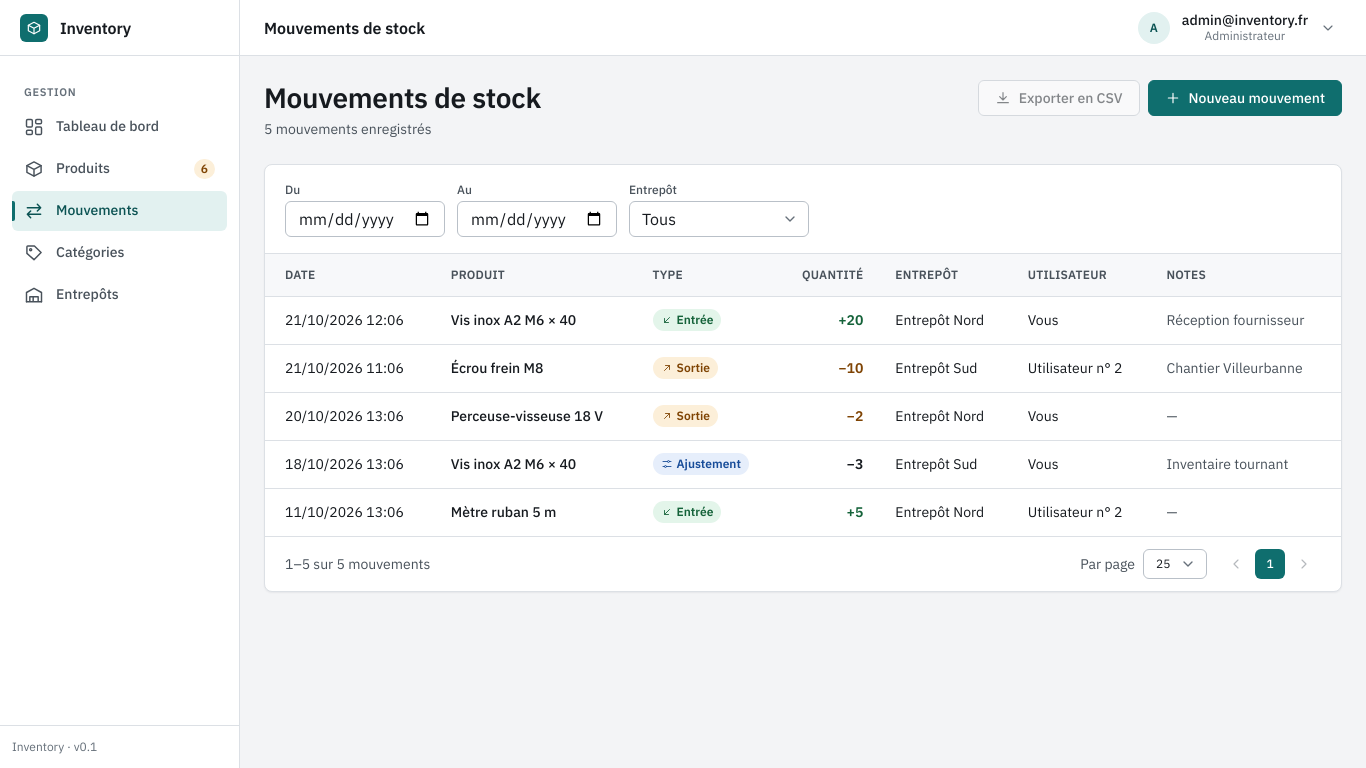
Test: MovementDrawer — opening and closing › closes with the close button
Click the button "Nouveau mouvement" at (1245, 98), box [1148, 80, 1342, 116]
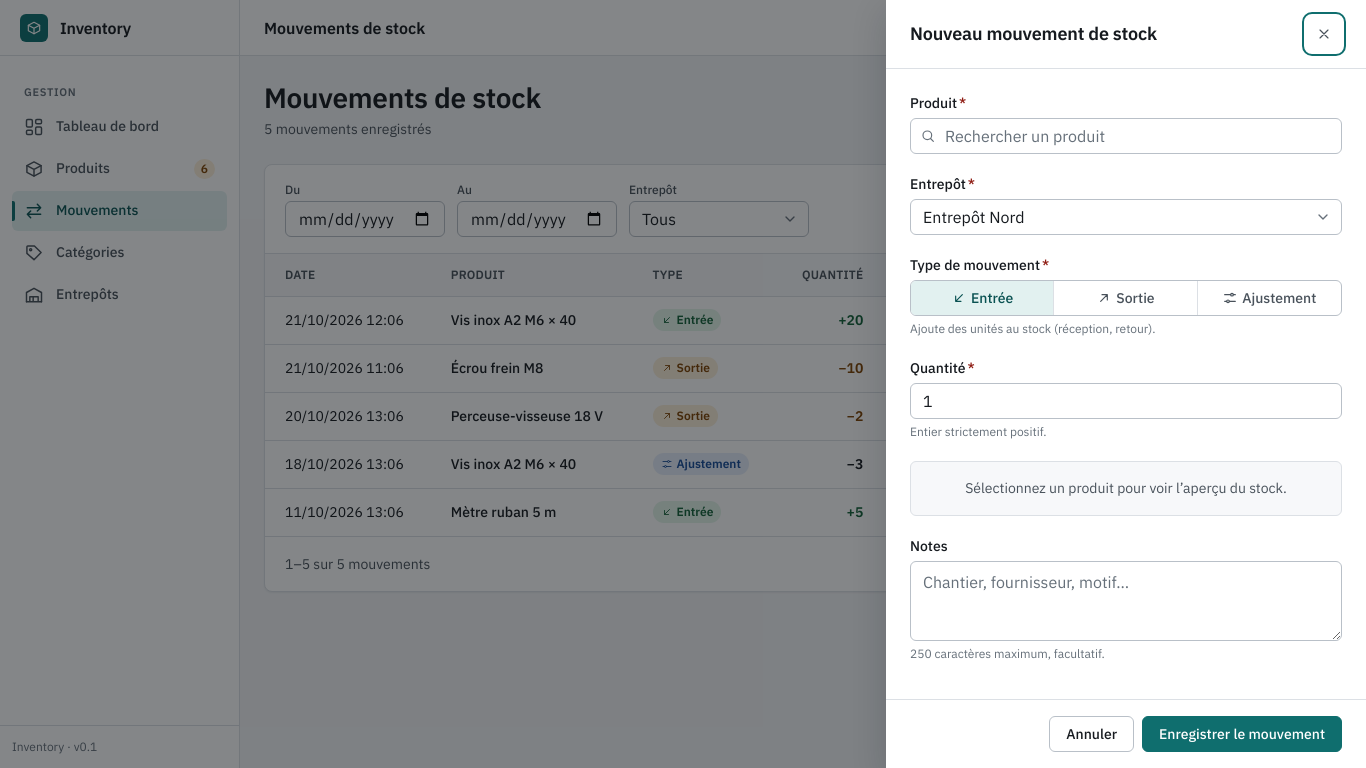
Result: the dialog "Nouveau mouvement de stock" is shown at [886, 0, 1365, 767]
Result: the dropdown with placeholder "Rechercher un produit" is shown at [910, 118, 1342, 154]
Result: the dropdown labelled "Entrepôt*" is enabled at [910, 199, 1342, 235]
Click the button named "Fermer le panneau" at (1324, 34), box [1306, 16, 1342, 52]
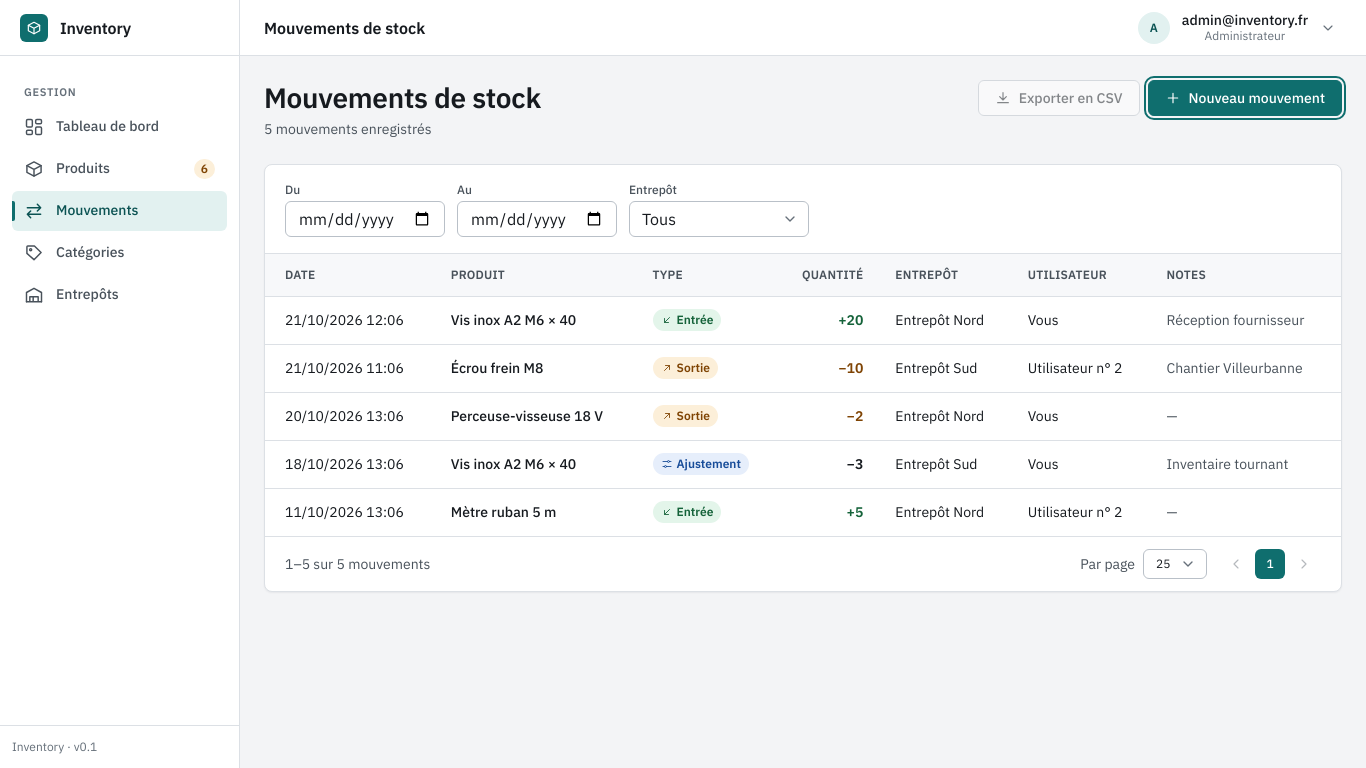
Result: the dialog is gone
